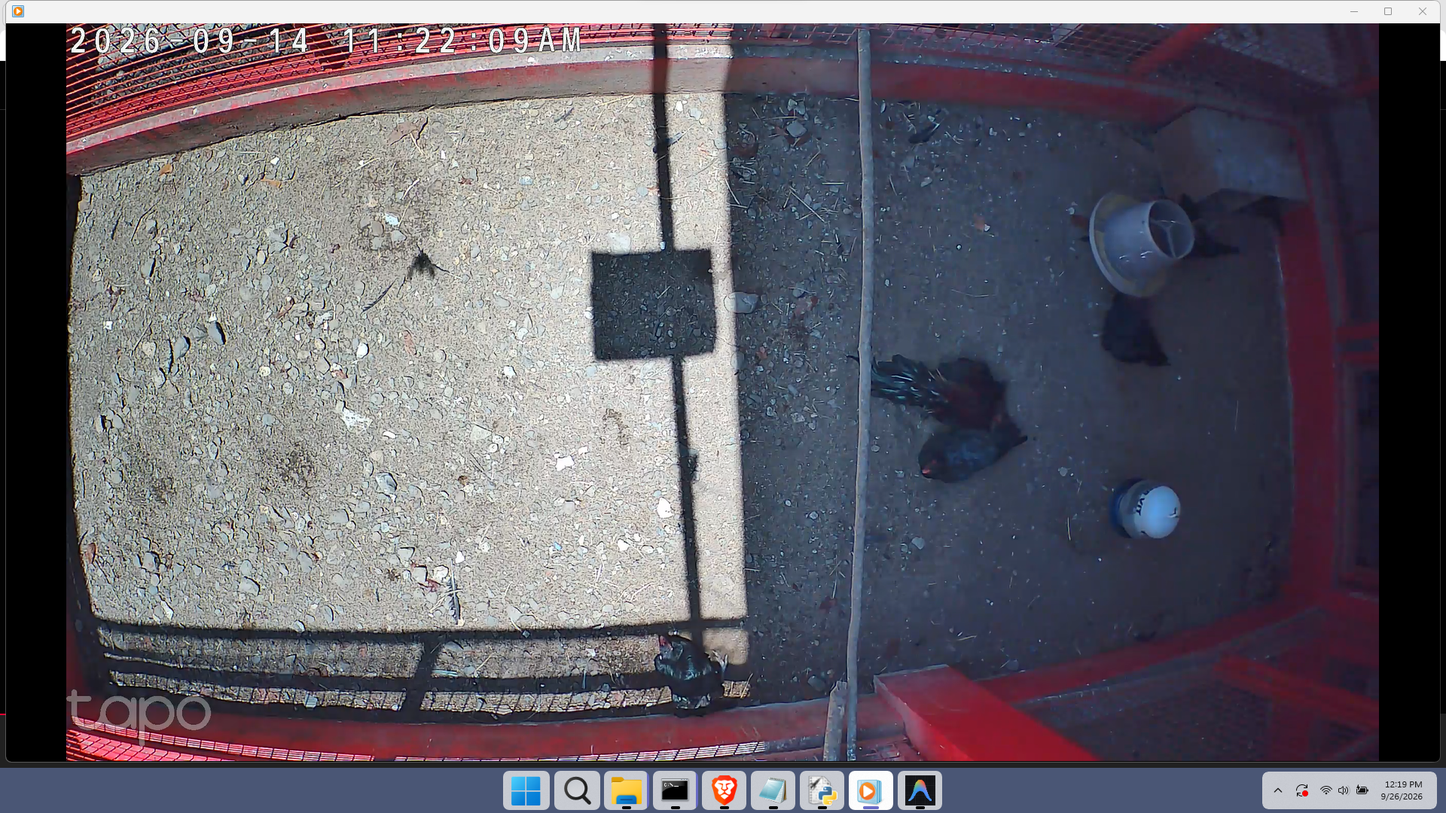Chicken: (648, 625, 732, 723), (1091, 289, 1177, 376), (915, 421, 1029, 484), (1188, 215, 1243, 268), (1254, 198, 1290, 243)
Drinker: (1106, 479, 1182, 542)
Feeder: (1089, 186, 1195, 298)
Rooster: (842, 340, 1008, 430)
